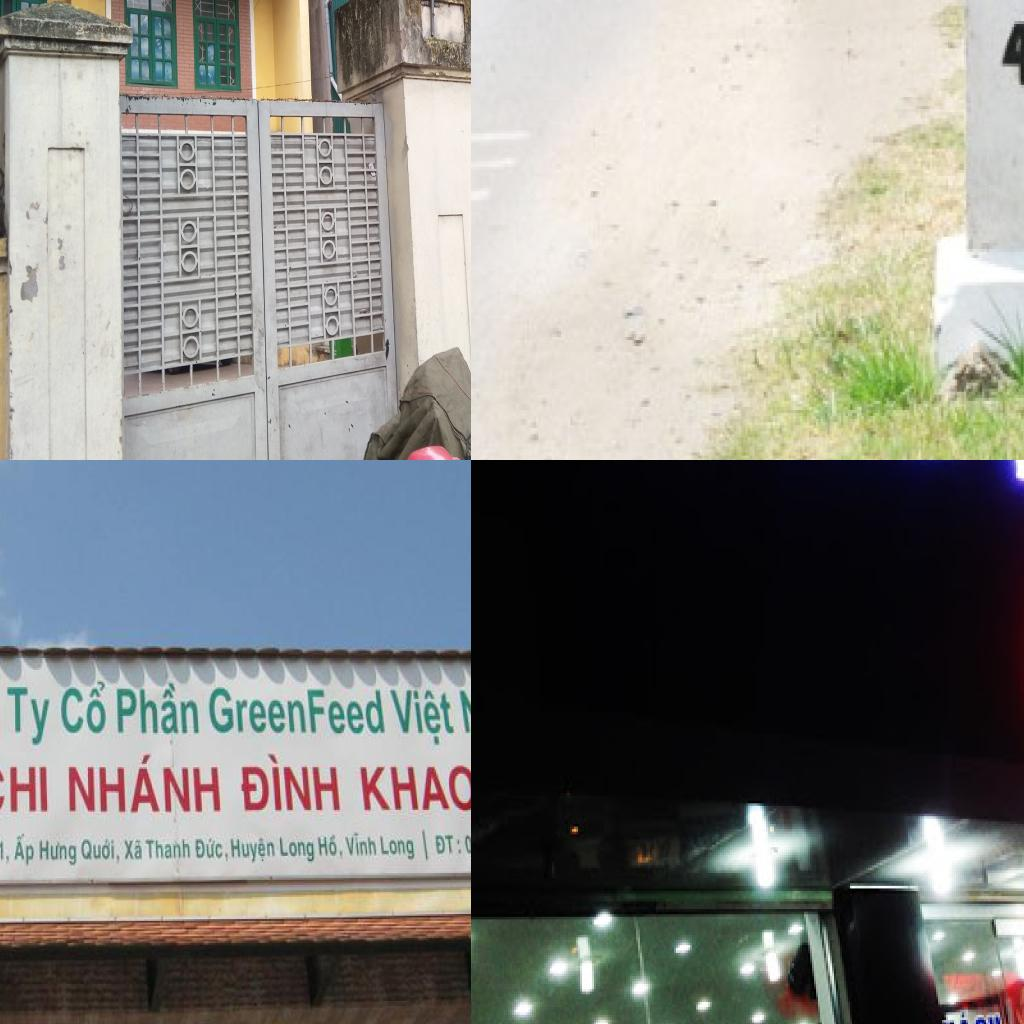text: (66, 750, 224, 815), (208, 686, 389, 736), (358, 762, 471, 815), (115, 679, 202, 738), (389, 689, 460, 748), (6, 685, 55, 752), (60, 678, 108, 740), (0, 763, 51, 818), (998, 15, 1024, 94), (230, 835, 278, 868), (940, 1004, 1008, 1024), (37, 837, 80, 868), (79, 836, 123, 866), (143, 837, 193, 863), (277, 834, 316, 866), (379, 834, 418, 864), (343, 830, 380, 861), (193, 836, 231, 866), (14, 830, 37, 872), (317, 834, 345, 861), (434, 834, 464, 858), (124, 837, 146, 863), (0, 838, 12, 866)
